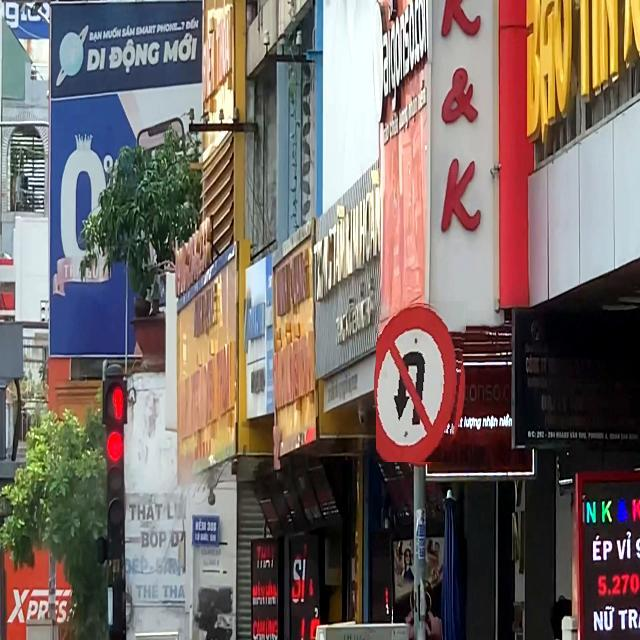P-124a: (376, 301, 468, 462)
